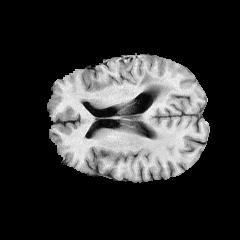glioma: (138, 68, 175, 99)
